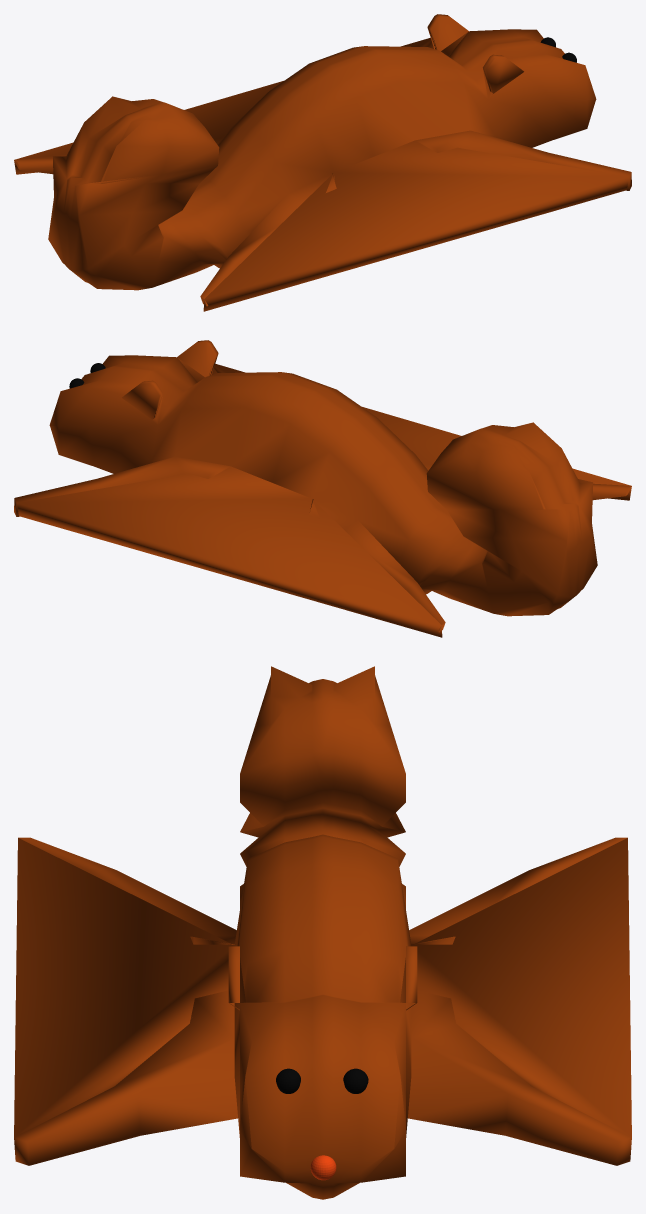
Rendered from Squirrel_colord.fbx.
3 views of the same model, one above another, from view 1: azimuth 30°, elevation 25°; view 2: azimuth 150°, elevation 25°; view 3: azimuth 270°, elevation 25° (orthographic). The views are drawn at different scales.
Visible parts, largest first — view 1: Body; view 2: Body; view 3: Body.
Boxes of the visible parts, <box> form: Body: <box>14,14,631,311</box>; Body: <box>14,340,631,637</box>; Body: <box>14,666,631,1199</box>.
Size of the model in its own units: 286 by 96.54 by 185.
